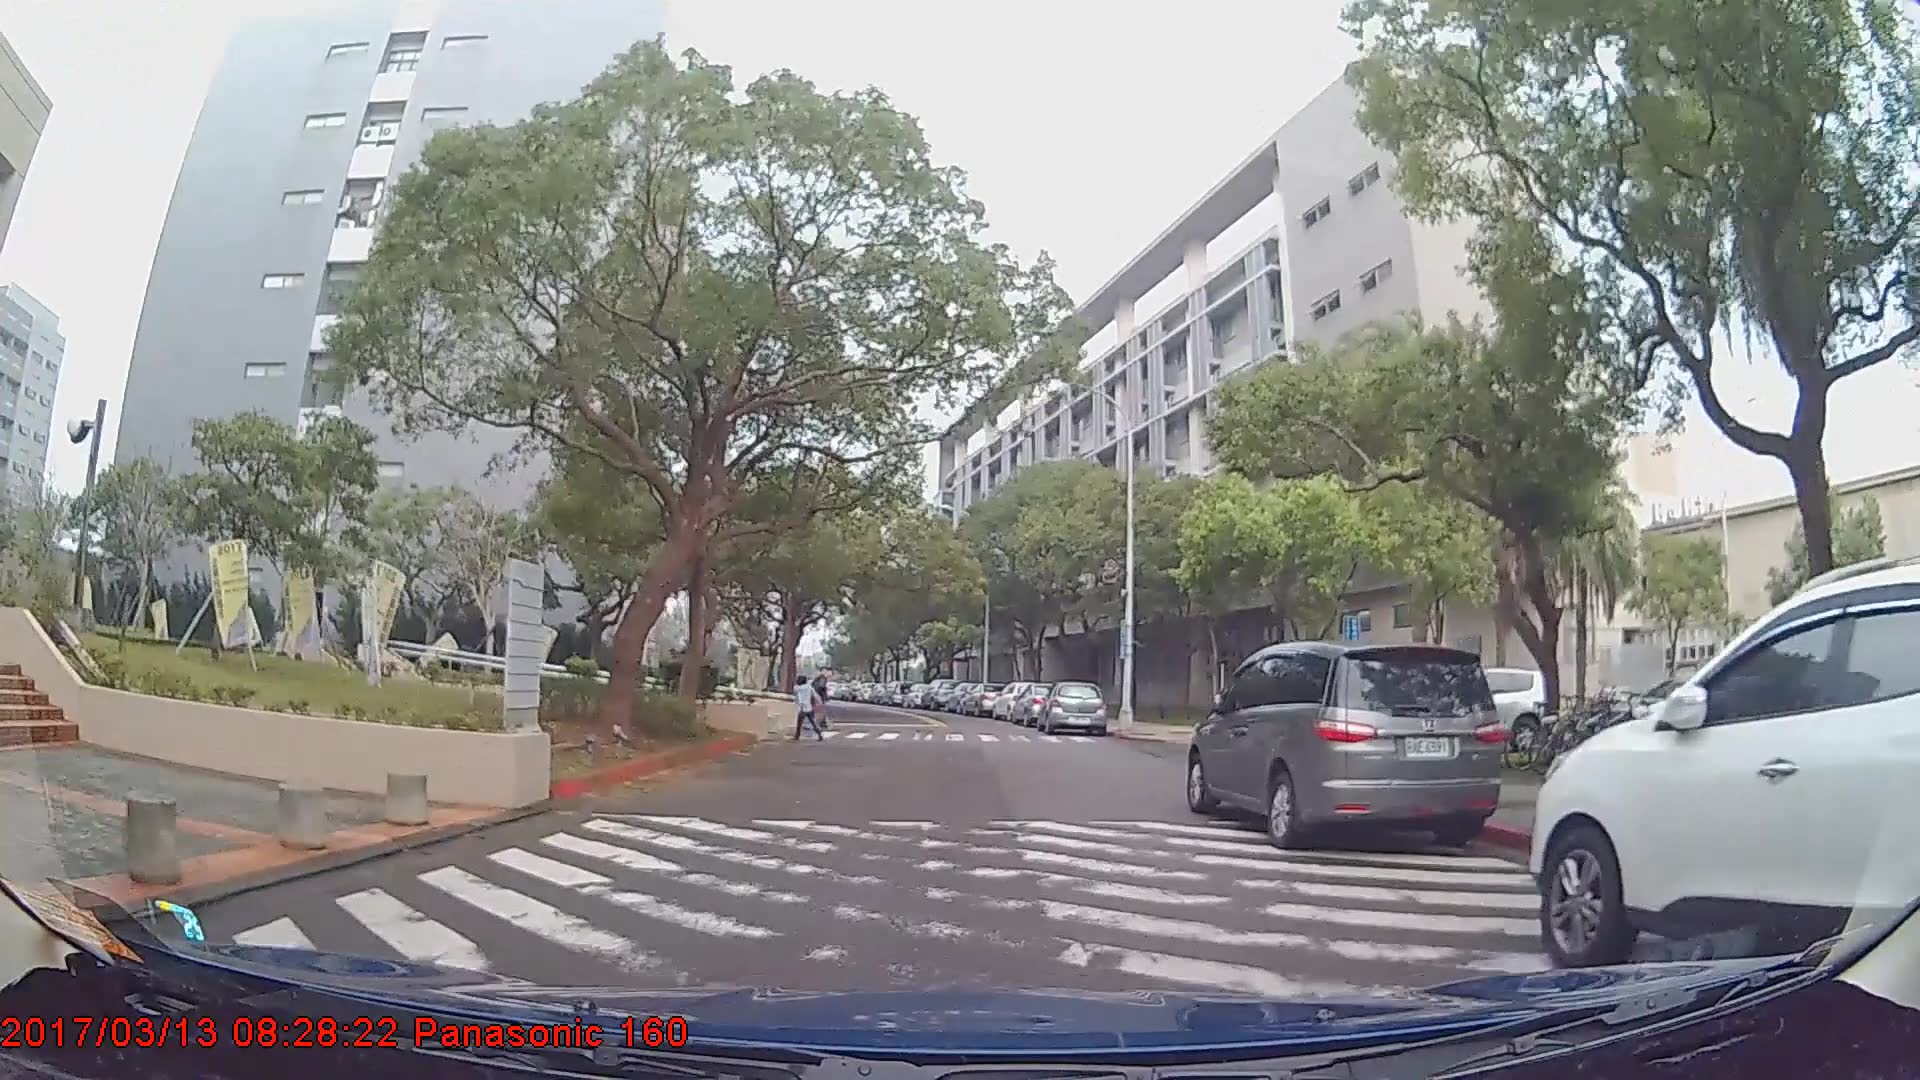pedestrian: (795, 676, 825, 743), (812, 662, 837, 731)
vehicle: (1529, 560, 1919, 974), (1188, 639, 1506, 852), (1043, 679, 1108, 734), (921, 677, 961, 710), (964, 683, 1005, 715)
